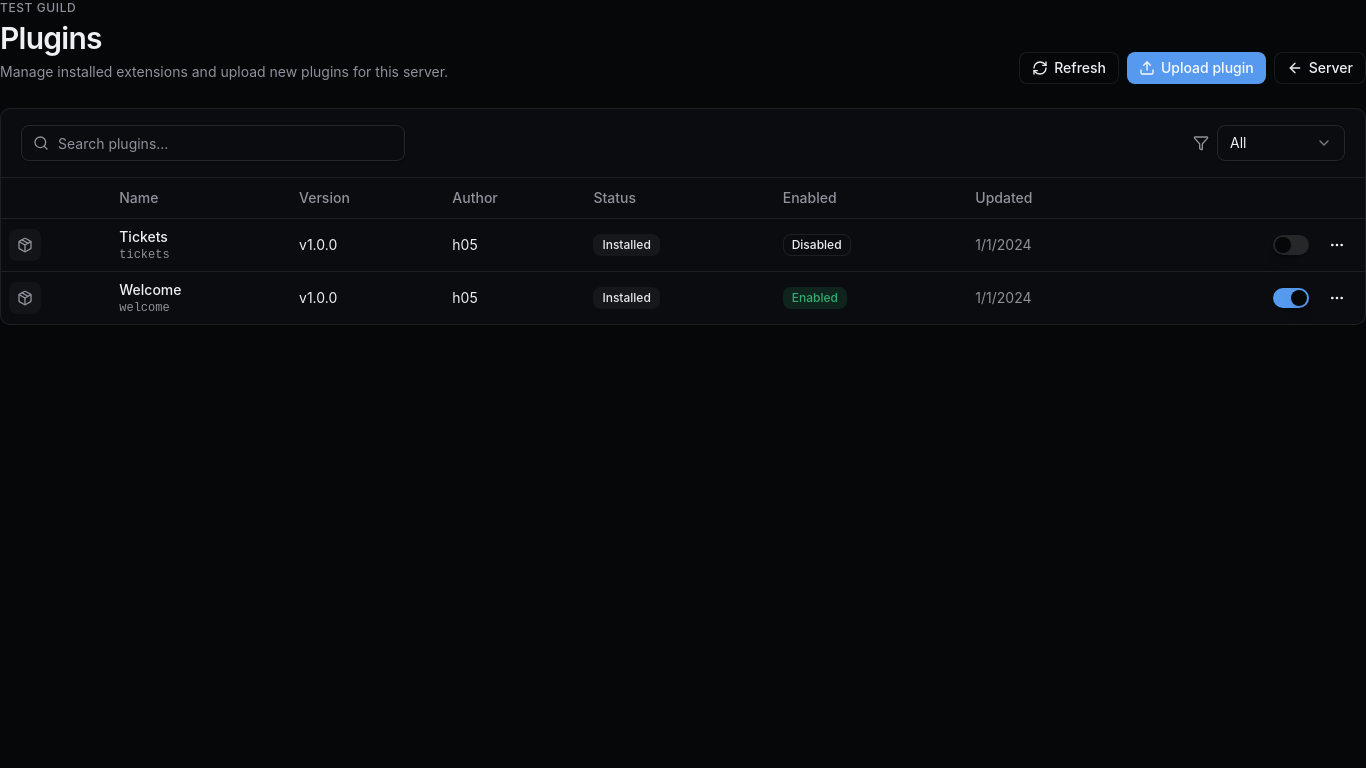
it: GuildPluginsPage › opens the upload dialog when the upload button is clicked
Click the button "Upload plugin". click: (1196, 68)
box: [1127, 52, 1266, 84]
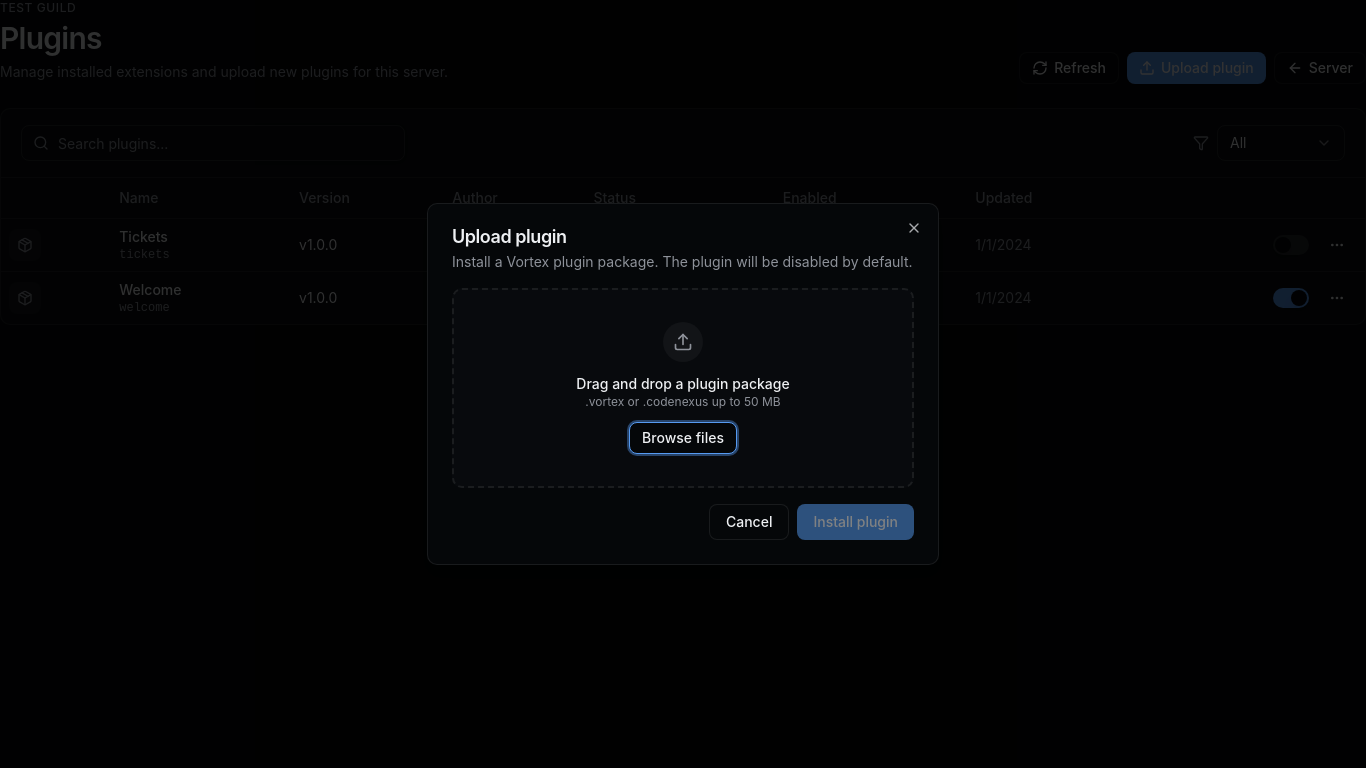
Now the dialog is shown, box [427, 203, 939, 565]
Now the text "Drag and drop a plugin package" is shown, box [576, 374, 790, 394]
